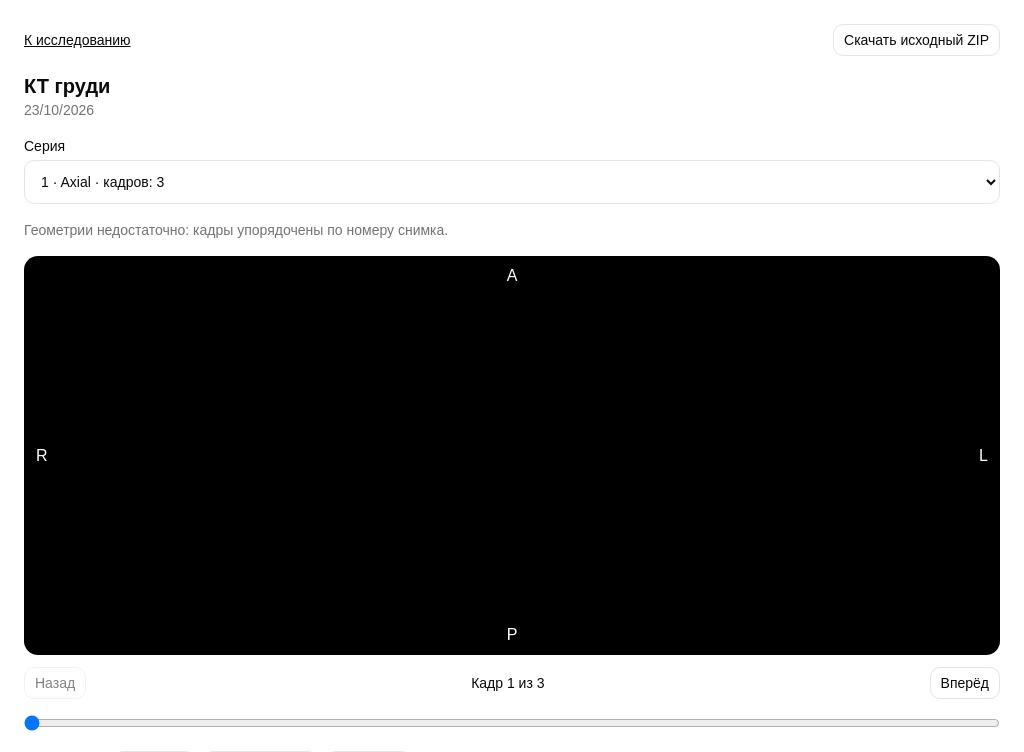
Test: opens a separate screen, changes frames/series and returns to the study
Check: the text "Геометрии недостаточно: кадры упорядочены по номеру снимка." is shown, box [24,222,448,238]
Check: the button "Назад" is disabled, box [24,667,86,699]
Click the button "Вперёд": (965, 683) [930,667,1000,699]
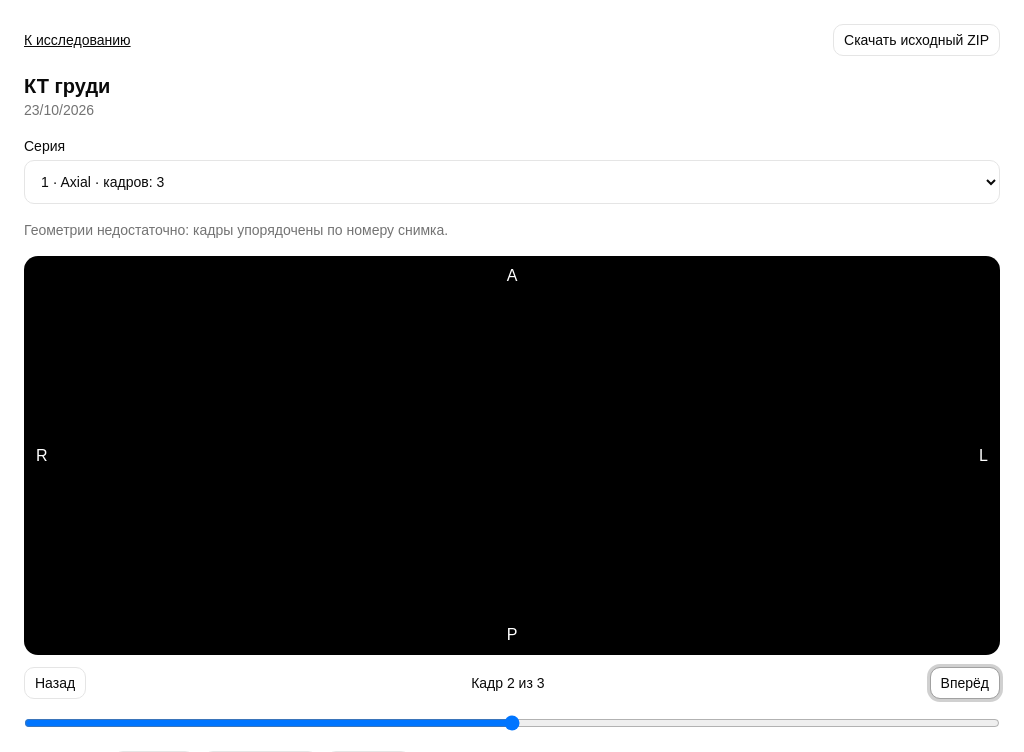
Check: the text "Кадр 2 из 3" is shown, box [471,673,544,693]
Set the slider named "Номер кадра" to "2": (992, 723) [24,707,1000,739]
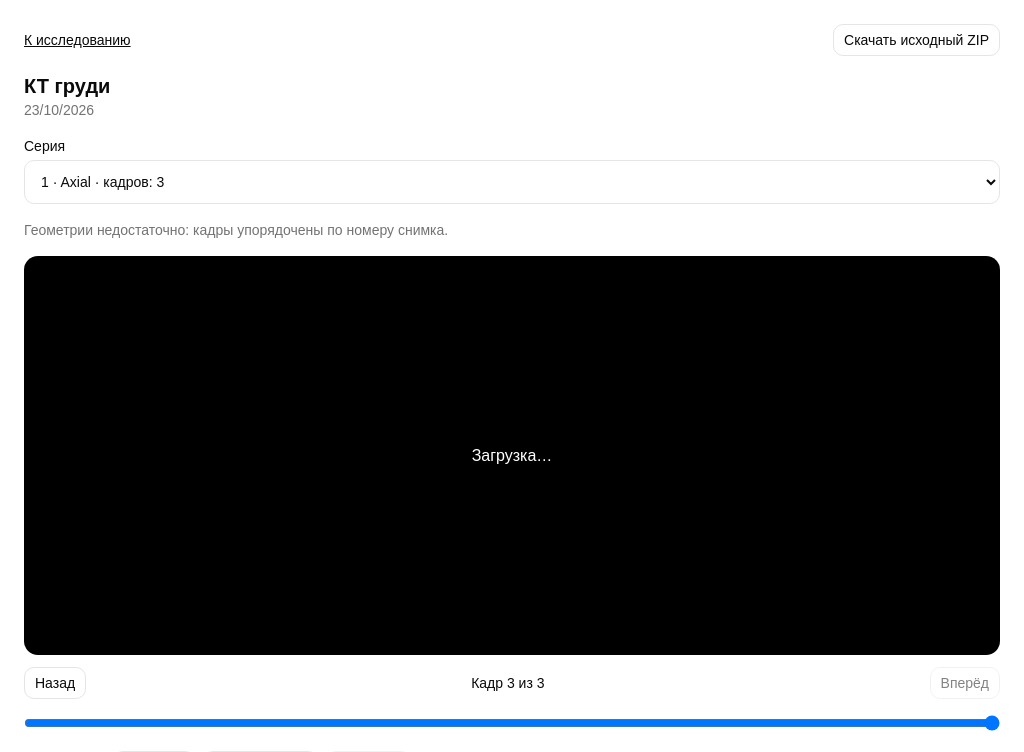
Check: the button "Вперёд" is disabled, box [930,667,1000,699]
Select "2 · Enhanced · кадров: 2" in the dropdown: (512, 182) [24,160,1000,204]
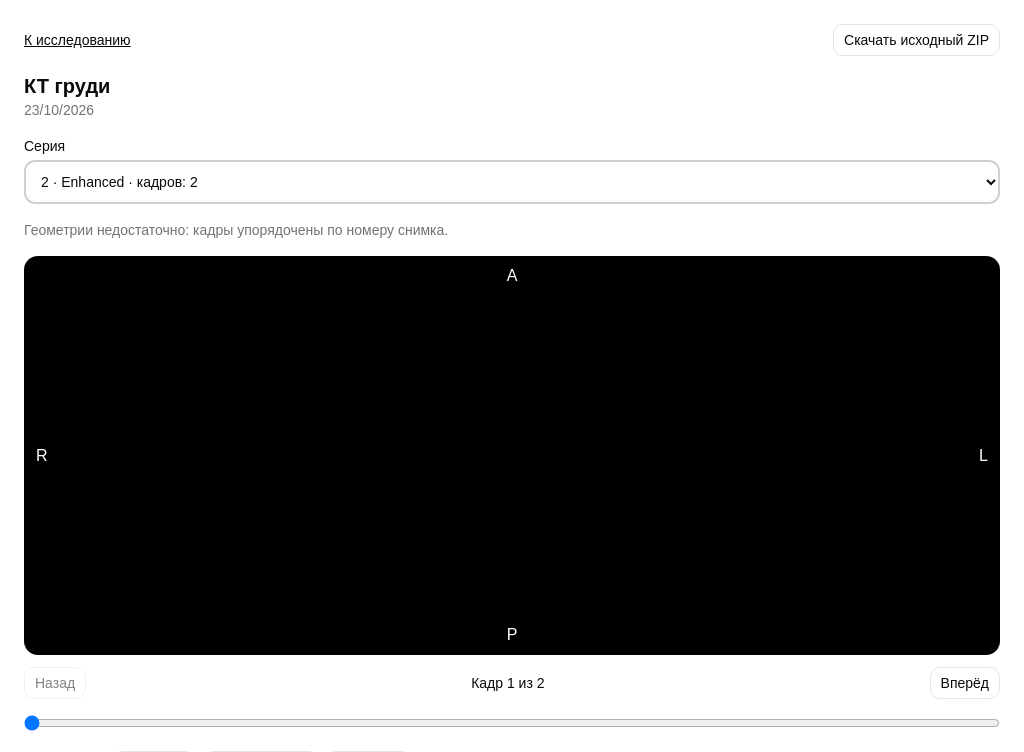
Check: the text "Кадр 1 из 2" is shown, box [471,673,544,693]
Click the link "К исследованию": (77, 40) [24,30,131,50]
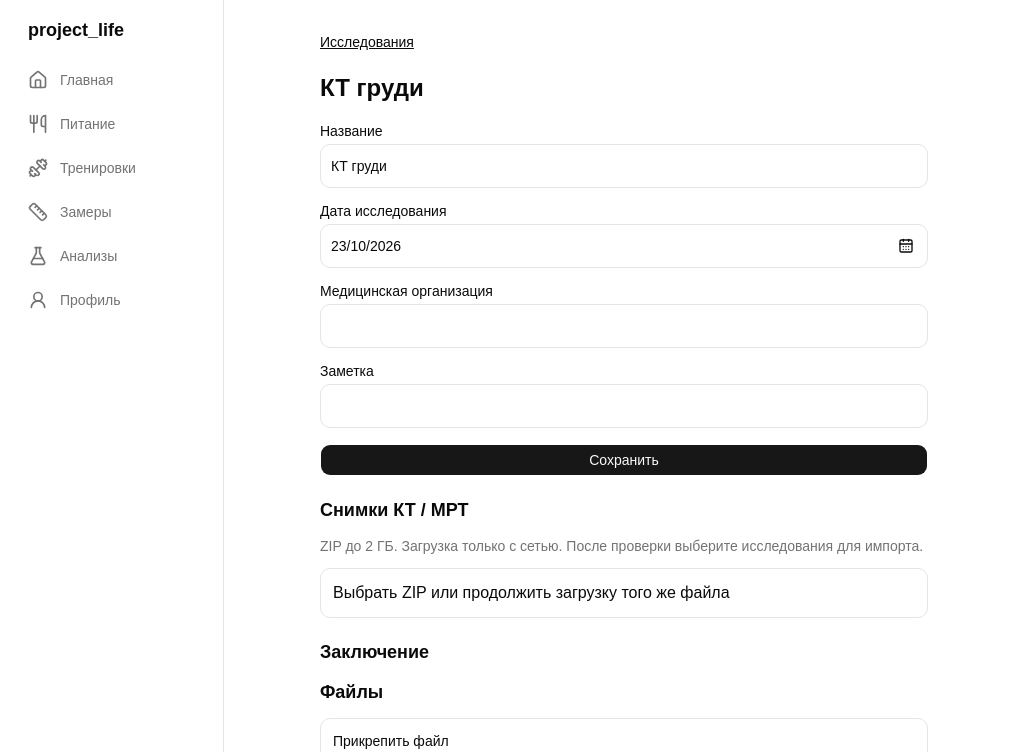
Check: the field labelled "Название" is shown, box [320,144,928,188]
